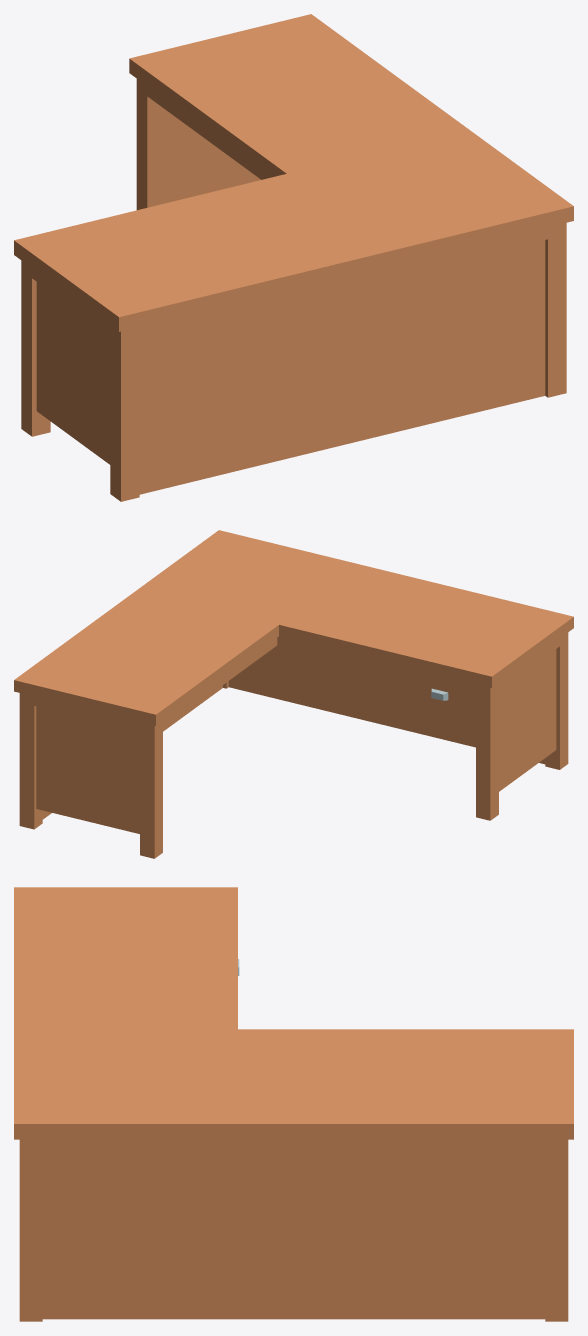
Rendered from deskCorner.dae.
The picture shows the model from 3 angles, top to bottom: view 1: azimuth 30°, elevation 25°; view 2: azimuth 150°, elevation 25°; view 3: azimuth 270°, elevation 25°; orthographic projection. The views are drawn at different scales.
Parts seen in each view (by area): view 1: deskCorner; view 2: deskCorner, drawer; view 3: deskCorner.
Boxes of the visible parts, x1=… form: deskCorner: x1=14, y1=14, x2=573, y2=501; deskCorner: x1=14, y1=530, x2=573, y2=858; drawer: x1=404, y1=676, x2=475, y2=712; deskCorner: x1=14, y1=887, x2=573, y2=1321.
Size of the model in its own units: 0.9745 by 0.3844 by 0.9745.
